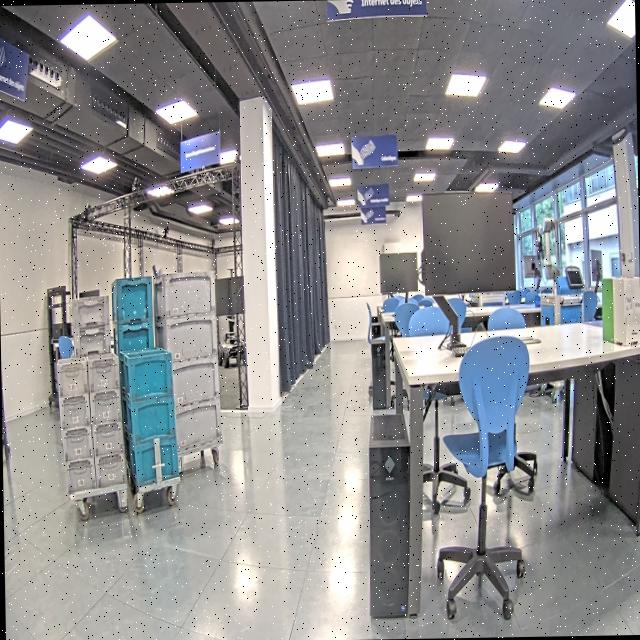Box3G: (72, 292, 112, 326), (72, 326, 112, 356)
Box4G: (154, 313, 218, 361), (153, 270, 215, 318), (169, 354, 220, 404), (173, 402, 222, 448)
Box8G: (54, 357, 88, 398), (86, 352, 120, 392), (94, 453, 130, 488), (59, 426, 92, 463), (89, 389, 122, 426), (58, 395, 91, 431), (92, 422, 124, 456), (64, 460, 95, 494)
BoxB4: (110, 275, 156, 324), (112, 322, 154, 361)
BoxB8: (123, 347, 173, 402), (126, 394, 178, 445), (130, 435, 182, 485)
